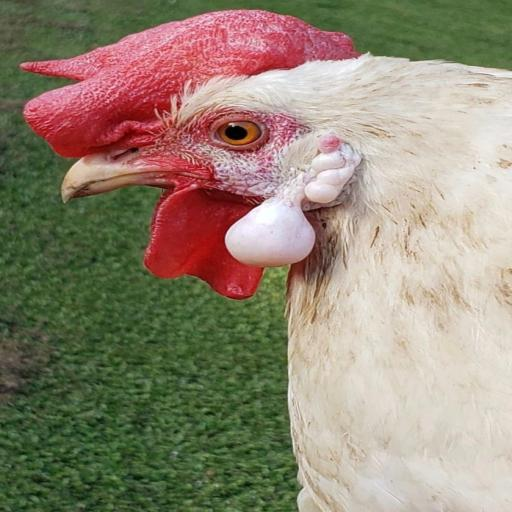disease: (217, 129, 390, 281)
